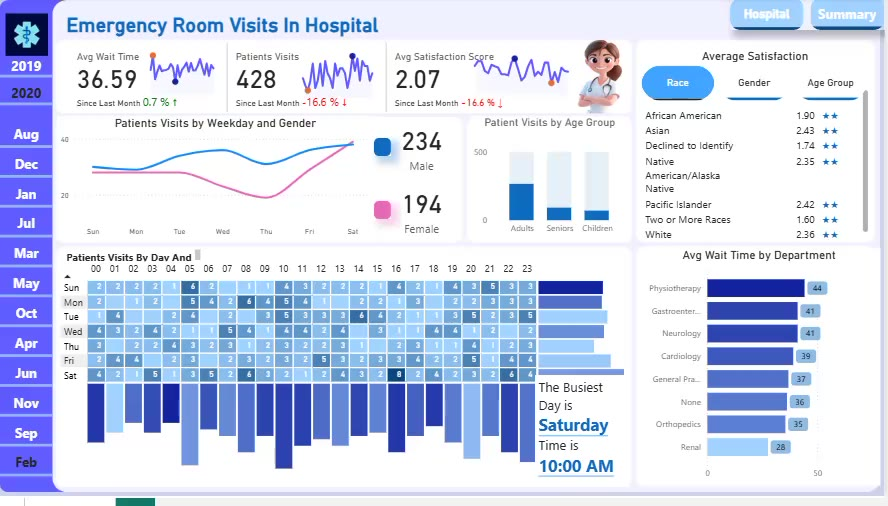

Layout of this report page (visuals, bound fields, positions):
{"tool":"powerbi","page":{"name":"Hospital ","canvas":[1280,720],"ordinal":0},"visuals":[{"type":"listSlicer","fields":{"Values":["Calendar.Year"]},"box":[0,73.4,87.8,329.8],"z":0},{"type":"listSlicer","fields":{"Values":["Calendar.Month"]},"box":[0,170.3,87.8,532],"z":1000},{"type":"cardVisual","fields":{"Data":["All Measures.Avg Wait Time","All Measures.Patients Visits","All Measures.Avg Satisfaction Score"]},"box":[99.2,59.5,697.9,110.8],"z":2000},{"type":"areaChart","fields":{"Y":["All Measures.Avg Wait Time","All Measures.Avg Wait Time Min Value","All Measures.Avg Wait Time Max Value"],"Category":["Calendar.Day"]},"box":[205.1,59.5,127.3,84.3],"z":3000},{"type":"areaChart","fields":{"Category":["Calendar.Day"],"Y":["All Measures.Patients Visits","All Measures.Patients Visits Max Value","All Measures.Patients Visits Min Value"]},"box":[423.4,59.5,137.3,91],"z":4000},{"type":"areaChart","fields":{"Category":["Calendar.Day"],"Y":["All Measures.Avg Satisfaction Score","All Measures.Avg Satisfaction Score Max Value","All Measures.Avg Satisfaction Score Min Value"]},"box":[669.8,59.5,173.6,84.3],"z":5000},{"type":"card","fields":{"Values":["All Measures.Patients Visits"]},"box":[559.7,169,105.6,90.8],"z":6000},{"type":"card","fields":{"Values":["All Measures.Patients Visits"]},"box":[559.7,259.8,105.6,90.8],"z":7000},{"type":"lineChart","fields":{"Y":["All Measures.Patients Visits"],"Category":["Calendar.Weekday"],"Series":["Hospital ER.Gender"]},"box":[87.8,169.9,456.5,180],"z":8000},{"type":"shape","box":[544.1,201.8,24.8,26.5],"z":9000},{"type":"shape","box":[544.1,292.7,24.8,26.5],"z":10000},{"type":"clusteredColumnChart","title":"Patient Visits by Age Group","fields":{"Category":["Hospital ER.Age Group"],"Y":["All Measures.Patients Visits","All Measures.Patient visit dummy"]},"box":[683,170.3,229.9,180.3],"z":11000},{"type":"tableEx","fields":{"Values":["Hospital ER.Race","All Measures.Avg Satisfaction Score","All Measures.Score Rating"]},"box":[924.4,127.3,337.4,223.3],"z":12000},{"type":"advancedSlicerVisual","title":"Average Satisfaction ","fields":{"Values":["Parameter score.Parameter score"]},"box":[924.4,72.8,337.4,79.4],"z":13000},{"type":"clusteredBarChart","title":"Avg Wait Time by Department","fields":{"Y":["All Measures.Avg Wait Time"],"Category":["Hospital ER.Department Referral"]},"box":[924.4,360.5,348.9,342.3],"z":14000},{"type":"pivotTable","fields":{"Values":["All Measures.Patients Visits"],"Rows":["Calendar.Weekday"],"Columns":["Hospital ER.Hour"]},"box":[87.8,374.4,695.5,193],"z":15000},{"type":"clusteredBarChart","fields":{"Category":["Calendar.Weekday"],"Y":["All Measures.Patients Visits"]},"box":[776.2,394.6,138.2,164.2],"z":16000},{"type":"clusteredColumnChart","fields":{"Y":["All Measures.Patients Visits"],"Category":["Hospital ER.Hour"]},"box":[126.7,541.4,656.6,161.3],"z":17000},{"type":"textbox","box":[776.2,542.9,136.8,159.8],"z":18000},{"type":"textbox","box":[96.5,357.1,203,27.4],"z":19000},{"type":"textbox","box":[96.5,17.3,501.1,56.2],"z":20000},{"type":"pageNavigator","box":[1057,0,223.2,46.1],"z":21000},{"type":"image","box":[5.8,17.3,76.3,70.6],"z":21001}]}

Visuals, with their boxes in screenshot pixels (x1, y1, x2, y2), scaled from the page's 1280x720 canvas onto the 888x506 screenshot:
listSlicer - Calendar.Year: 0,52,61,283
listSlicer - Calendar.Month: 0,120,61,494
cardVisual - All Measures.Avg Wait Time x All Measures.Patients Visits: 69,42,553,120
areaChart - All Measures.Avg Wait Time x All Measures.Avg Wait Time Min Value: 142,42,231,101
areaChart - Calendar.Day x All Measures.Patients Visits: 294,42,389,106
areaChart - Calendar.Day x All Measures.Avg Satisfaction Score: 465,42,585,101
card - All Measures.Patients Visits: 388,119,462,183
card - All Measures.Patients Visits: 388,183,462,246
lineChart - All Measures.Patients Visits x Calendar.Weekday: 61,119,378,246
shape: 377,142,395,160
shape: 377,206,395,224
"Patient Visits by Age Group" clusteredColumnChart: 474,120,633,246
tableEx - Hospital ER.Race x All Measures.Avg Satisfaction Score: 641,89,875,246
"Average Satisfaction " advancedSlicerVisual: 641,51,875,107
"Avg Wait Time by Department" clusteredBarChart: 641,253,883,494
pivotTable - All Measures.Patients Visits x Calendar.Weekday: 61,263,543,399
clusteredBarChart - Calendar.Weekday x All Measures.Patients Visits: 538,277,634,393
clusteredColumnChart - All Measures.Patients Visits x Hospital ER.Hour: 88,380,543,494
textbox: 538,382,633,494
textbox: 67,251,208,270
textbox: 67,12,415,52
pageNavigator: 733,0,887,32
image: 4,12,57,62
